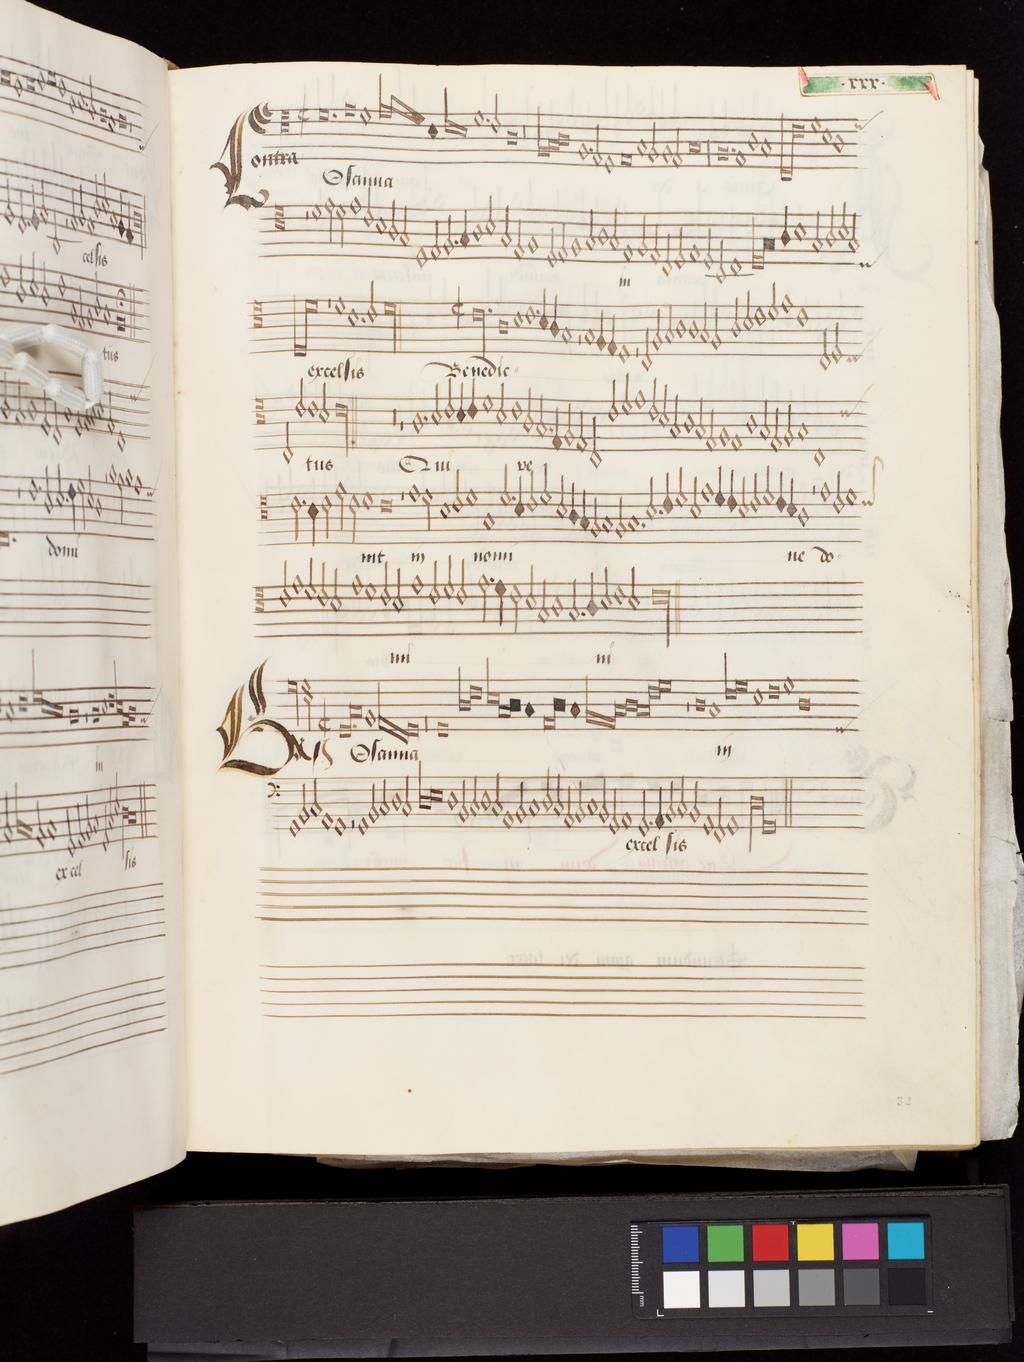barline: (780, 767, 801, 839)
f clef_5: (258, 779, 286, 808)
l1breve_7: (746, 791, 765, 854)
l1semibreve_7: (414, 758, 429, 817)
l2longa_11: (760, 793, 778, 840)
l2semibreve_6: (427, 785, 444, 807)
minim rest: (347, 768, 357, 835)
minim_10: (561, 780, 577, 832)
minim_11: (608, 779, 622, 840), (635, 782, 649, 840)
minim_12: (713, 790, 727, 847)
minim_7: (539, 763, 554, 817)
minim_8: (489, 768, 504, 819), (468, 769, 483, 819), (675, 768, 689, 820), (376, 771, 392, 819), (551, 769, 565, 818), (401, 771, 414, 821), (309, 770, 322, 819)
minim_9: (514, 772, 529, 828), (687, 774, 702, 827), (365, 776, 380, 827), (574, 774, 588, 828), (597, 772, 610, 828), (663, 777, 678, 824), (456, 774, 470, 824), (298, 776, 311, 826)
point: (644, 814, 655, 829)
semibreve_10: (319, 805, 335, 836), (620, 805, 635, 832), (502, 805, 516, 833)
semibreve_11: (356, 811, 371, 842), (287, 815, 303, 845), (333, 810, 349, 840), (727, 809, 742, 838), (701, 810, 716, 838)
semibreve_7: (445, 785, 459, 813), (480, 785, 494, 813), (390, 788, 403, 812)
semibreve_8: (528, 793, 543, 822), (585, 789, 599, 817)
semiminim_10: (654, 780, 666, 834)
